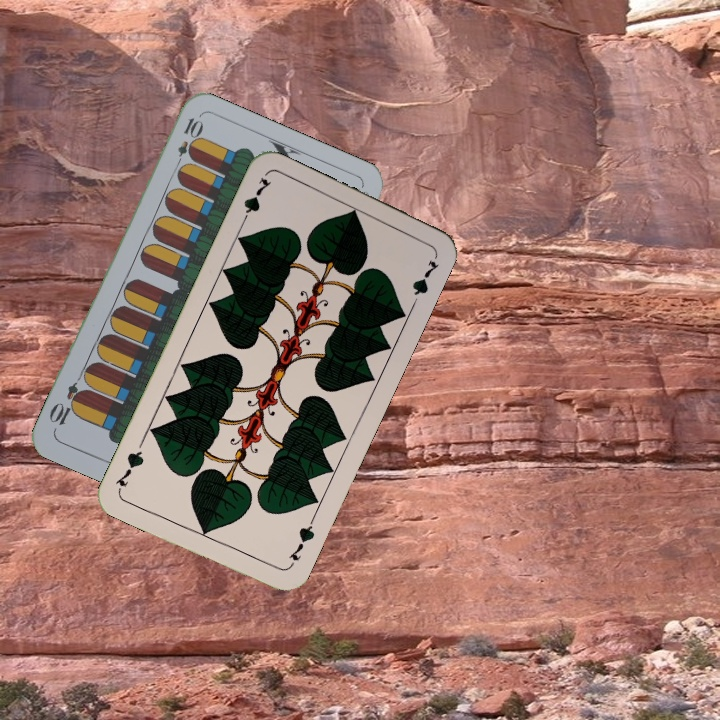E10: (171, 113, 204, 171)
G7: (237, 173, 274, 229), (284, 515, 318, 571)
